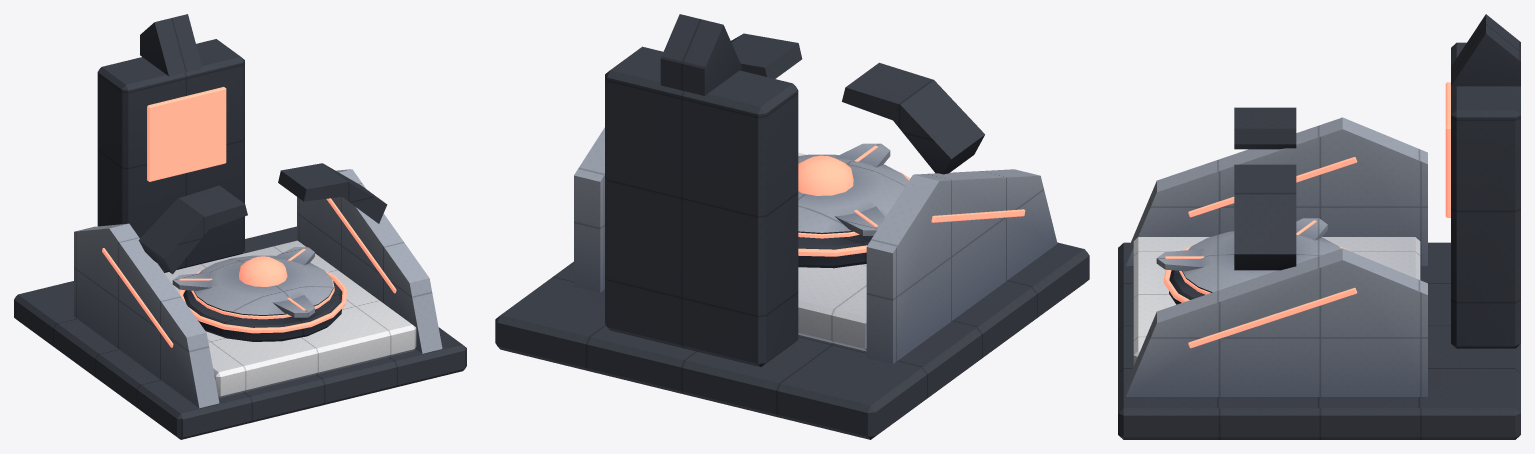
File: R4X_ExplosiveTrapDeployer_LOD1.glb
The picture shows the model from 3 angles, left to right: view 1: azimuth 30°, elevation 25°; view 2: azimuth 150°, elevation 25°; view 3: azimuth 270°, elevation 25°; orthographic projection. The views are drawn at different scales.
Parts seen in each view (by area): view 1: R4X_ExplosiveTrapDeployer_LOD1; view 2: R4X_ExplosiveTrapDeployer_LOD1; view 3: R4X_ExplosiveTrapDeployer_LOD1.
Boxes of the visible parts, x1,y1,x2,y2 form: R4X_ExplosiveTrapDeployer_LOD1: (14,14,466,439); R4X_ExplosiveTrapDeployer_LOD1: (495,14,1089,439); R4X_ExplosiveTrapDeployer_LOD1: (1118,14,1520,439).
Bounding box in the file's own units: 0.52 × 0.475 × 0.52.
4 materials, 3 textured.
